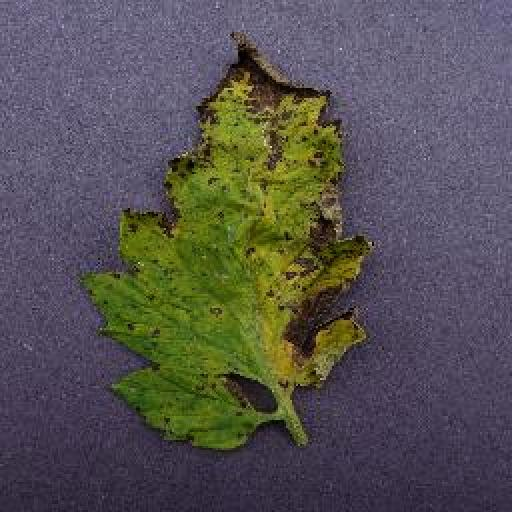disease_tomato: (84, 30, 370, 448)
